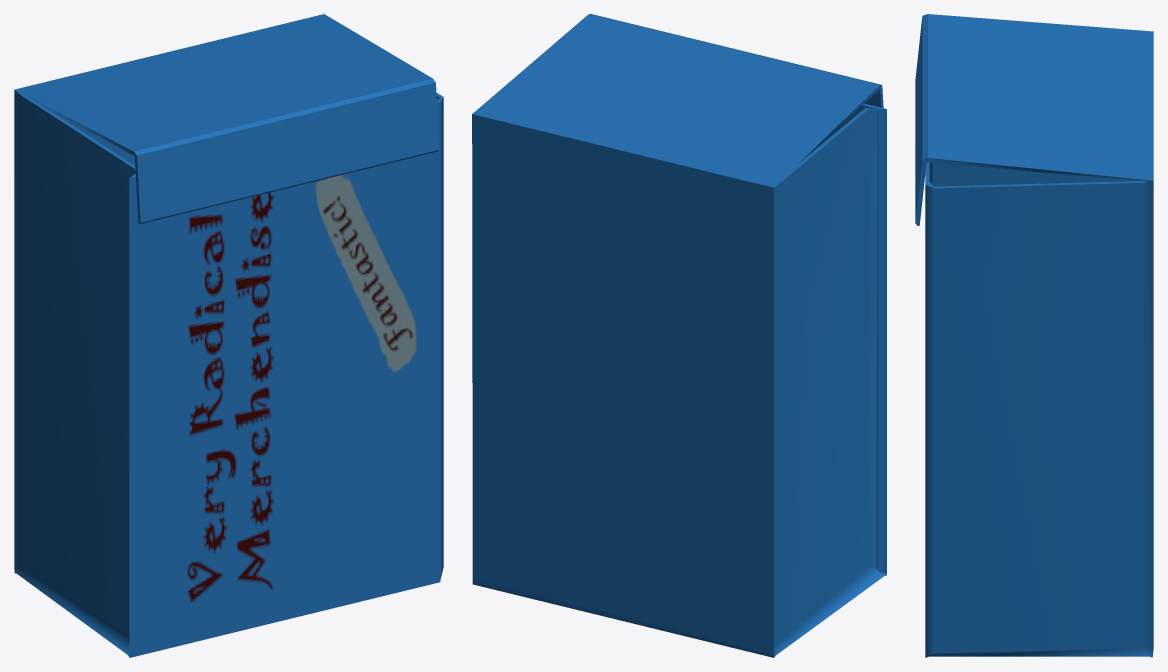
File: Thefted Merch.fbx
3 views of the same model, side by side, from view 1: azimuth 30°, elevation 25°; view 2: azimuth 150°, elevation 25°; view 3: azimuth 270°, elevation 25° (orthographic). The views are drawn at different scales.
Parts seen in each view (by area): view 1: pCube1; view 2: pCube1; view 3: pCube1.
Part boxes in pixels (bbox=[...]): pCube1: bbox=[14, 14, 443, 657]; pCube1: bbox=[472, 14, 886, 657]; pCube1: bbox=[915, 14, 1153, 657].
Bounding box in the file's own units: 8.05 × 12.16 × 5.28.
